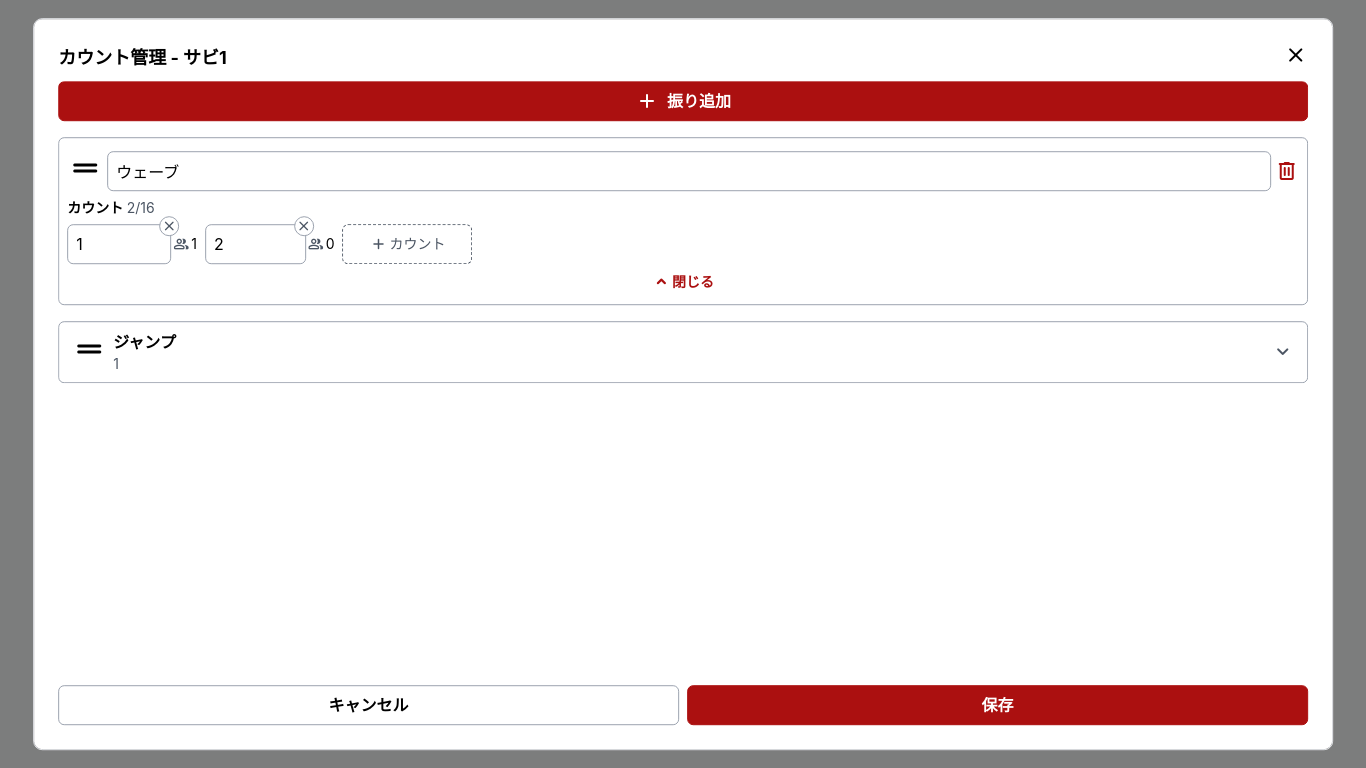
Scenario: ActionManagerDialog count patterns › starts a new action with the patterns, in pairs, and no count boxes
The image size is (1366, 768).
Click the button "振り追加" at (683,101), box [58,81,1308,121]
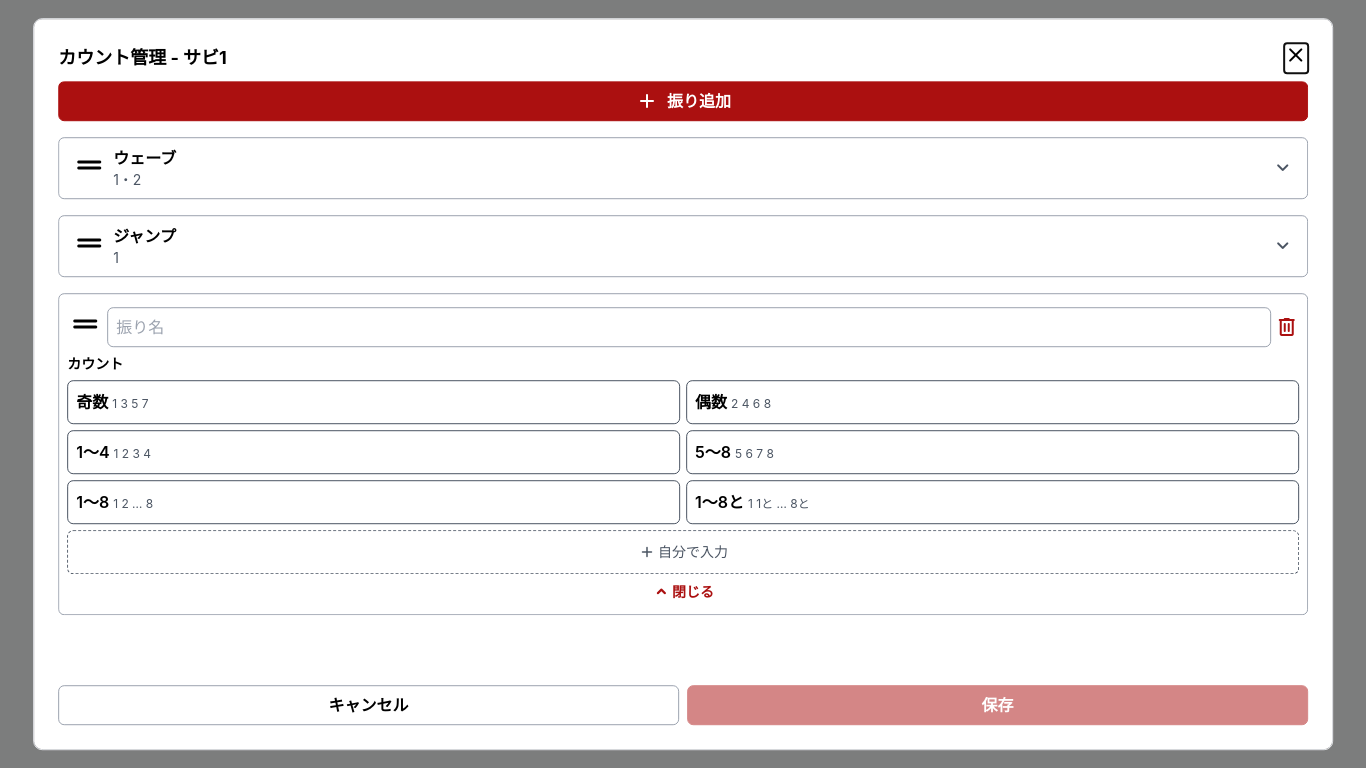
Now the button "自分で入力" is shown, box [67,530,1299,574]
Now the button "保存" is disabled, box [687,685,1308,725]
